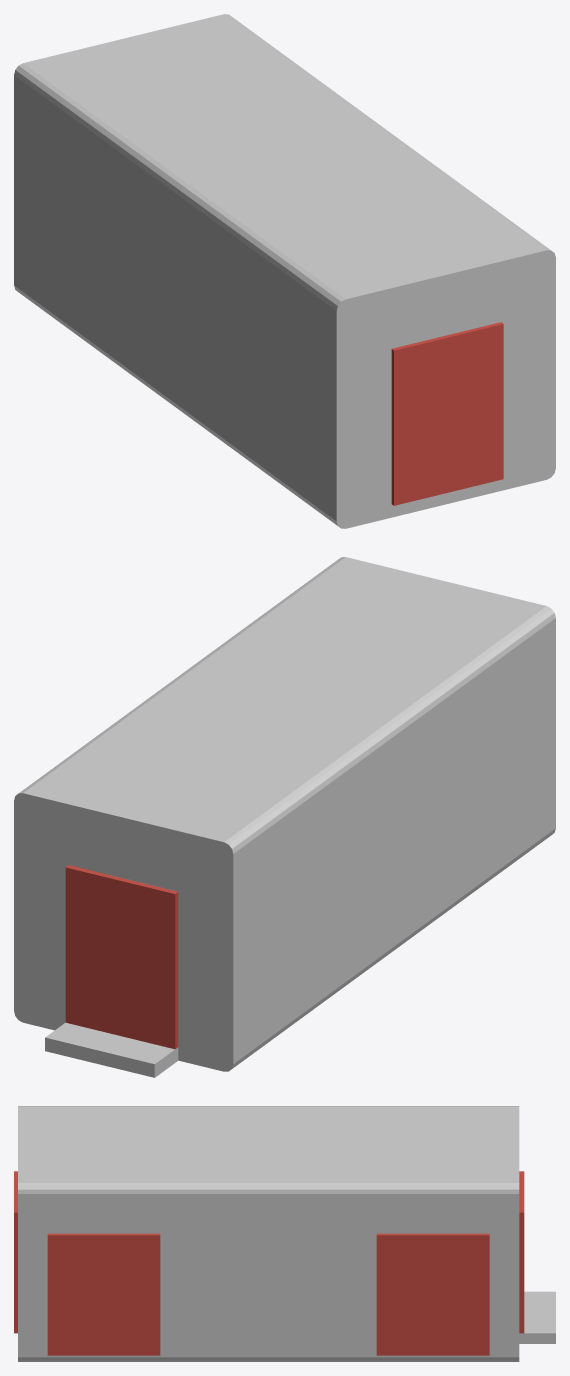
File: trainStructure.fbx
The picture shows the model from 3 angles, top to bottom: view 1: azimuth 30°, elevation 25°; view 2: azimuth 150°, elevation 25°; view 3: azimuth 270°, elevation 25°; orthographic projection. The views are drawn at different scales.
Parts seen in each view (by area): view 1: Cube, Cube.001, Cube.004; view 2: Cube, Cube.001, Cube.003; view 3: Cube, Cube.002, Cube.001, Cube.003, Cube.004.
Part boxes in pixels (left/top/right/bottom): Cube: left=14, top=14, right=555, bottom=528; Cube.001: left=33, top=140, right=317, bottom=452; Cube.004: left=391, top=322, right=503, bottom=505; Cube: left=14, top=557, right=555, bottom=1077; Cube.001: left=252, top=683, right=536, bottom=995; Cube.003: left=65, top=865, right=178, bottom=1049; Cube: left=18, top=1106, right=555, bottom=1361; Cube.002: left=47, top=1233, right=489, bottom=1355; Cube.001: left=213, top=1233, right=323, bottom=1315; Cube.003: left=519, top=1171, right=524, bottom=1333; Cube.004: left=14, top=1171, right=17, bottom=1333.
Bounding box in the file's own units: 204 × 200 × 551.
